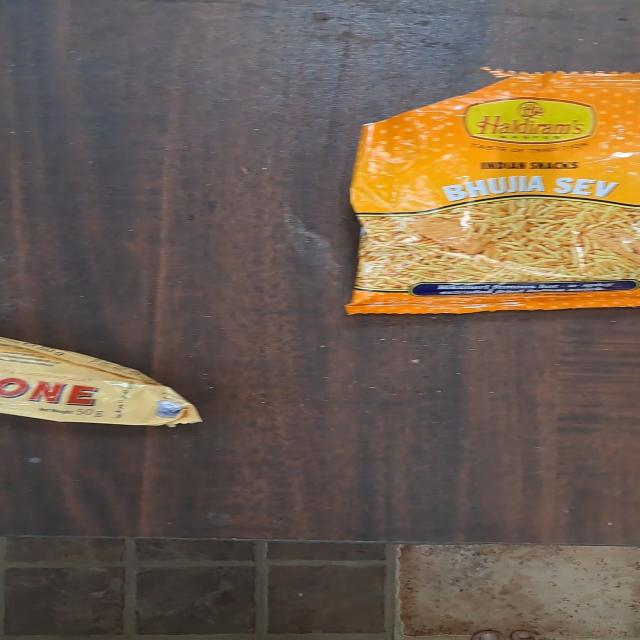Anorganik: (350, 69, 640, 319), (4, 329, 198, 427)
